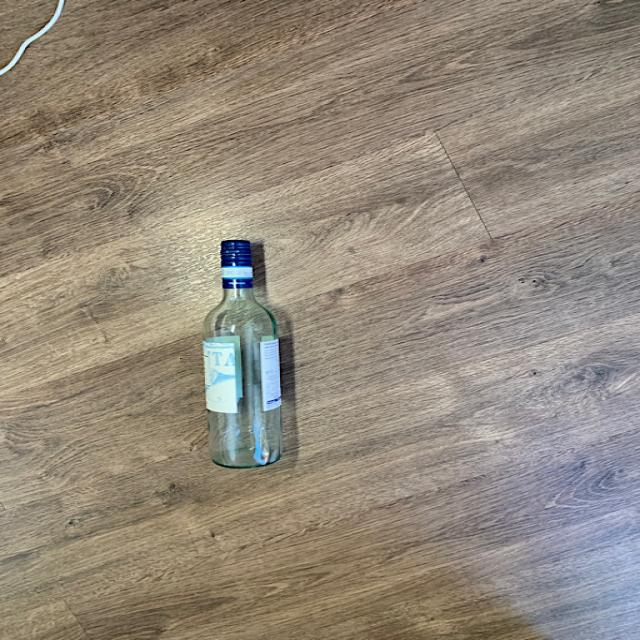litter: (192, 236, 288, 472)
